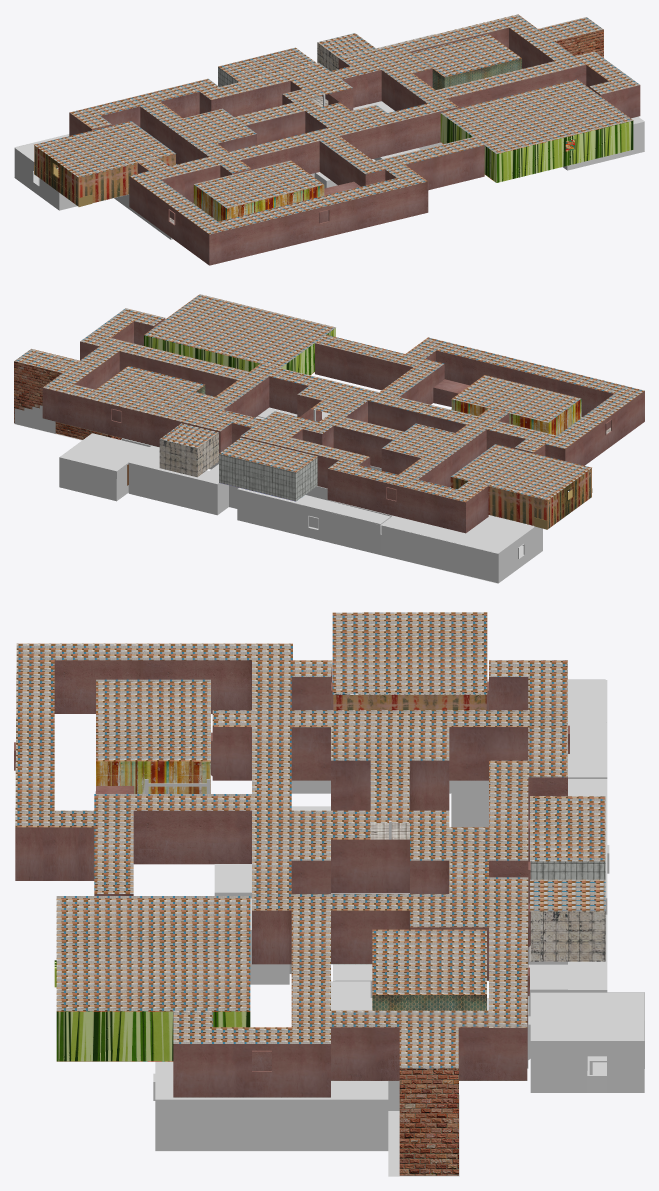
File: picture.fbx
3 views of the same model, one above another, from view 1: azimuth 30°, elevation 25°; view 2: azimuth 150°, elevation 25°; view 3: azimuth 270°, elevation 25° (orthographic). The views are drawn at different scales.
Visible parts, largest first — view 1: floor2UP, floor2Walls, floor1Walls, floor1UP, floor2; view 2: floor2UP, floor2Walls, floor1Walls, floor1UP, stairs; view 3: floor2UP, floor2Walls, floor1Walls, floor1UP, floor2, floor dumbbell.
Part boxes in pixels (left/top/right/bottom): floor2UP: left=34, top=14, right=639, bottom=234; floor2Walls: left=34, top=27, right=640, bottom=265; floor1Walls: left=14, top=34, right=644, bottom=239; floor1UP: left=14, top=34, right=644, bottom=180; floor2: left=57, top=66, right=601, bottom=223; floor2UP: left=14, top=294, right=644, bottom=502; floor2Walls: left=14, top=318, right=644, bottom=533; floor1Walls: left=59, top=412, right=542, bottom=583; floor1UP: left=59, top=408, right=534, bottom=553; stairs: left=14, top=405, right=55, bottom=433; floor2UP: left=15, top=612, right=605, bottom=1068; floor2Walls: left=14, top=660, right=605, bottom=1175; floor1Walls: left=153, top=679, right=644, bottom=1150; floor1UP: left=155, top=680, right=644, bottom=1099; floor2: left=57, top=694, right=530, bottom=1068; floor dumbbell: left=388, top=1094, right=459, bottom=1176.
Bounding box in the file's own units: 5495 × 661 × 3198.
